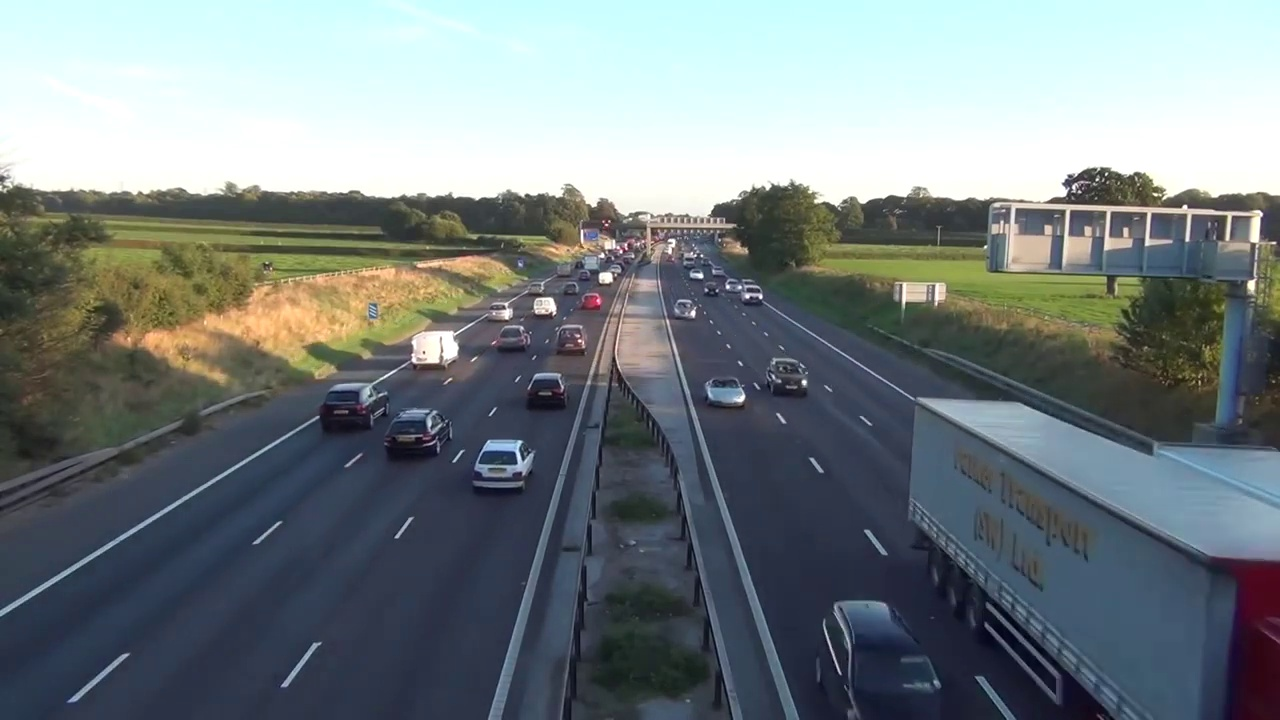bus: (814, 600, 943, 720), (474, 439, 536, 492), (385, 408, 453, 455), (320, 384, 389, 429), (762, 355, 808, 393), (526, 373, 568, 408), (705, 376, 746, 409), (555, 324, 588, 355), (494, 325, 531, 352), (488, 301, 513, 321), (673, 298, 696, 319), (582, 293, 600, 308), (703, 283, 720, 296), (725, 279, 741, 292)
lorry: (410, 330, 458, 369), (741, 281, 763, 305), (534, 297, 559, 318)
